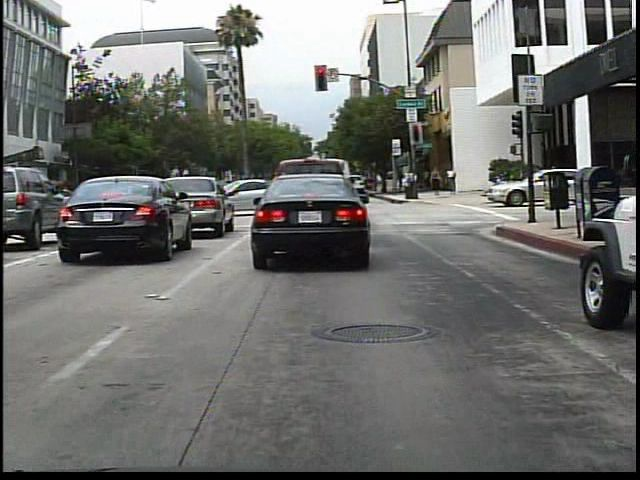person: (427, 161, 445, 199), (444, 164, 461, 198)
